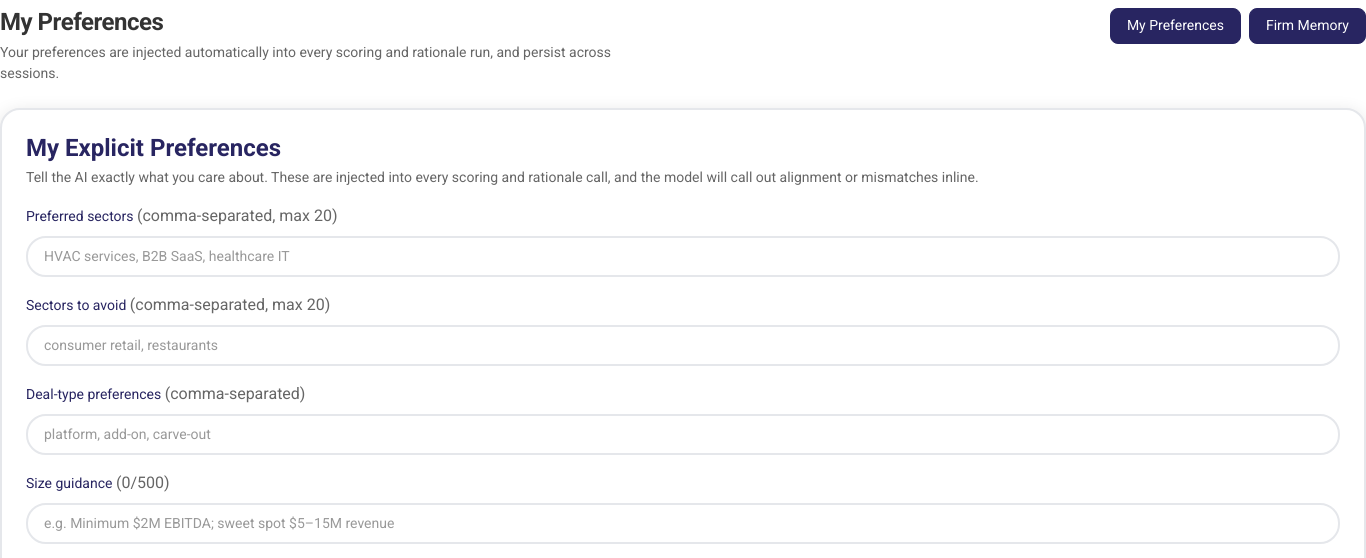
Test: Analyst Preferences — tabs › admin sees the Firm Memory tab and can switch to the firm thesis
The width and height of the screenshot is (1366, 558).
Expected: the heading "My Explicit Preferences" is shown, [26, 134, 281, 162]
What coordinates should you click on to do the following:
click the tab "Firm Memory"
I would click on:
 (1308, 26)
Its box is [1249, 8, 1365, 44].
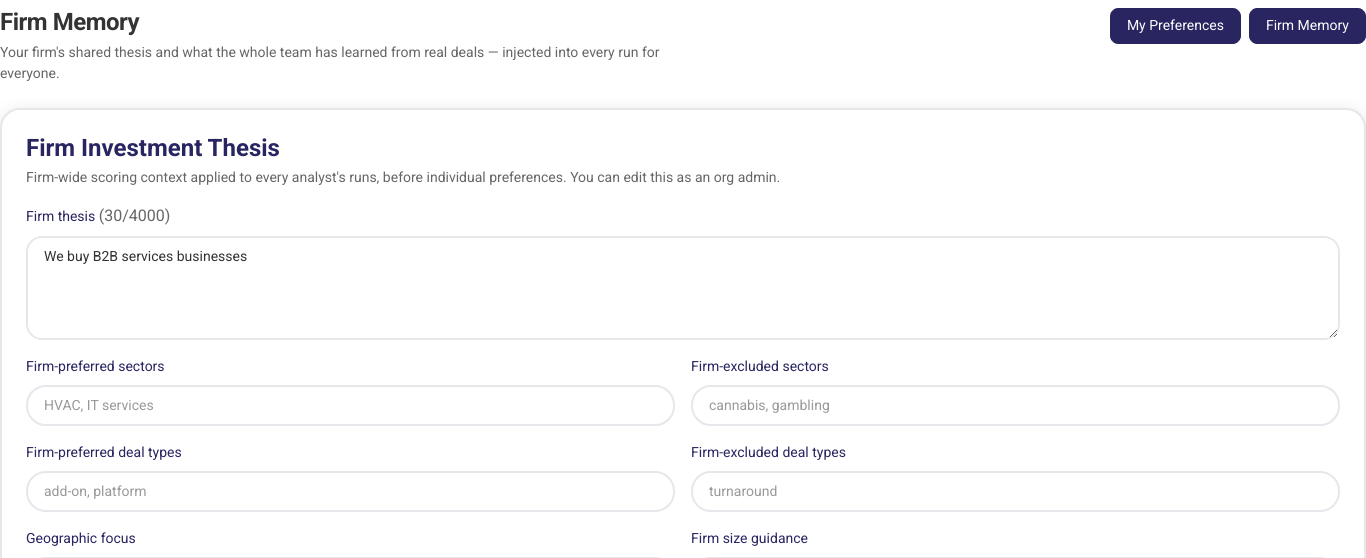
Now the heading "Firm Investment Thesis" is shown, box [26, 134, 280, 162]
